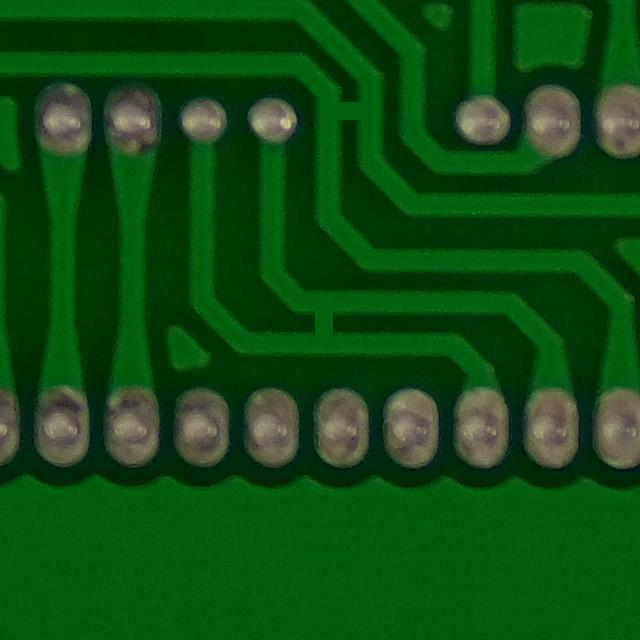short: (271, 276, 369, 364)
